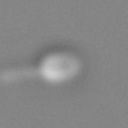normal: (1, 67, 35, 83)
